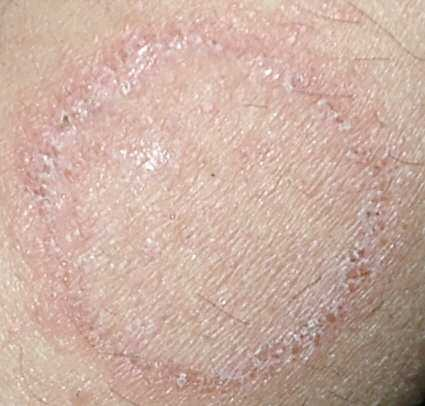Ringworm: (21, 7, 412, 403)
